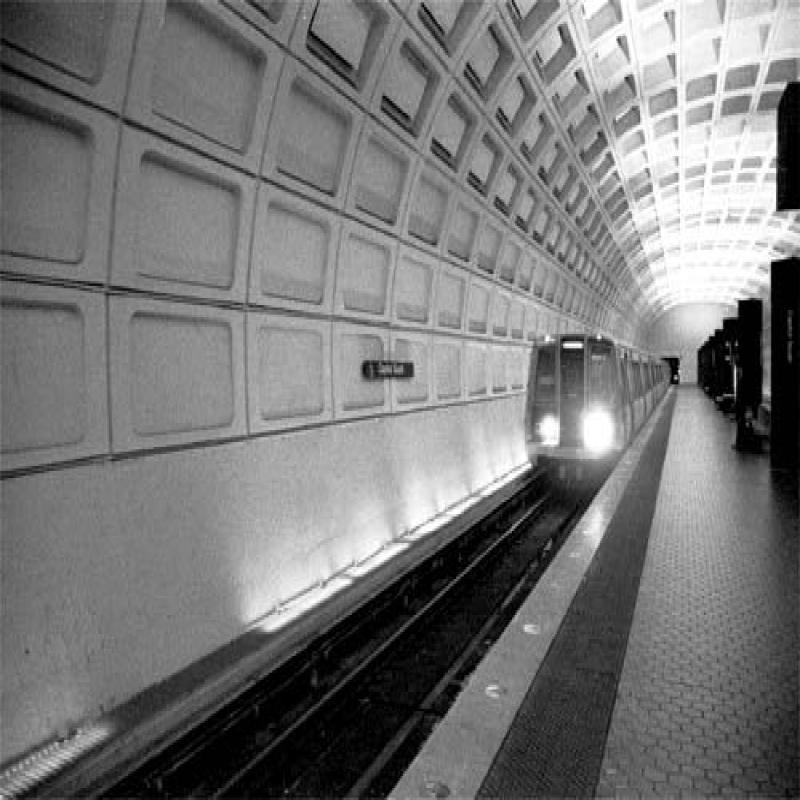train: (526, 333, 673, 499)
